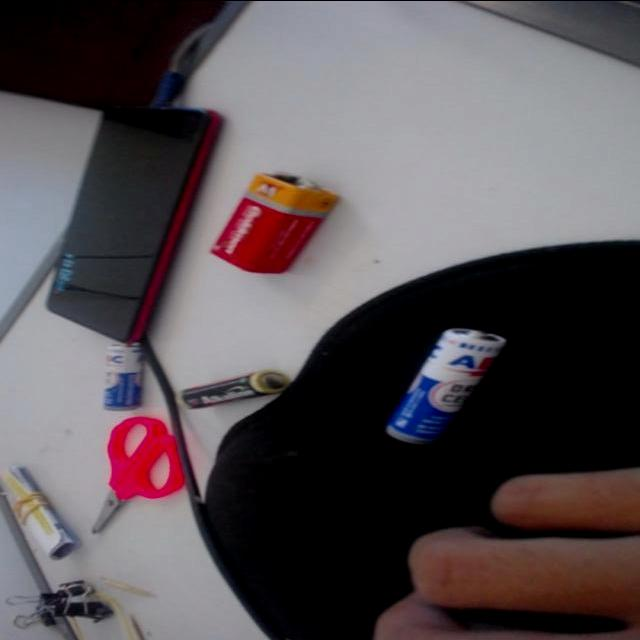9V: (222, 156, 338, 278)
AA: (381, 327, 488, 451), (96, 329, 151, 414)
AAA: (171, 362, 300, 422)
